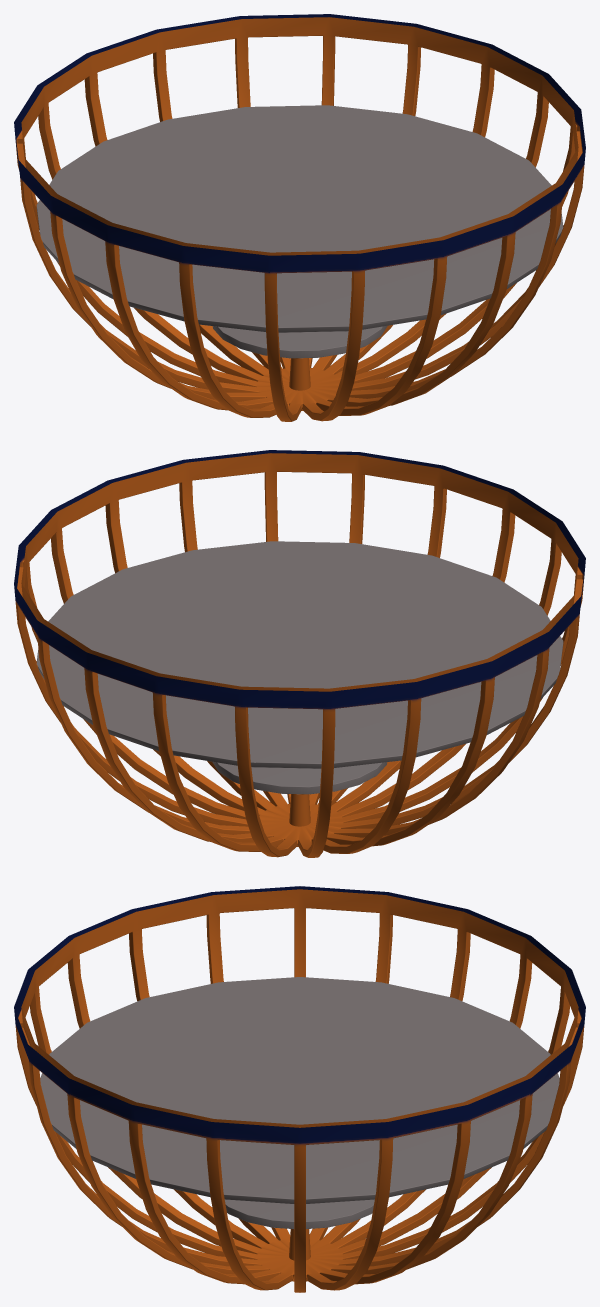
File: ShipBottom.fbx
3 views of the same model, one above another, from view 1: azimuth 30°, elevation 25°; view 2: azimuth 150°, elevation 25°; view 3: azimuth 270°, elevation 25° (orthographic).
Parts seen in each view (by area): view 1: ShipBottom; view 2: ShipBottom; view 3: ShipBottom.
Boxes of the visible parts, x1=… form: ShipBottom: x1=14, y1=14, x2=585, y2=421; ShipBottom: x1=14, y1=450, x2=585, y2=857; ShipBottom: x1=14, y1=886, x2=585, y2=1292.
Bounding box in the file's own units: 1880 × 930 × 1880.
